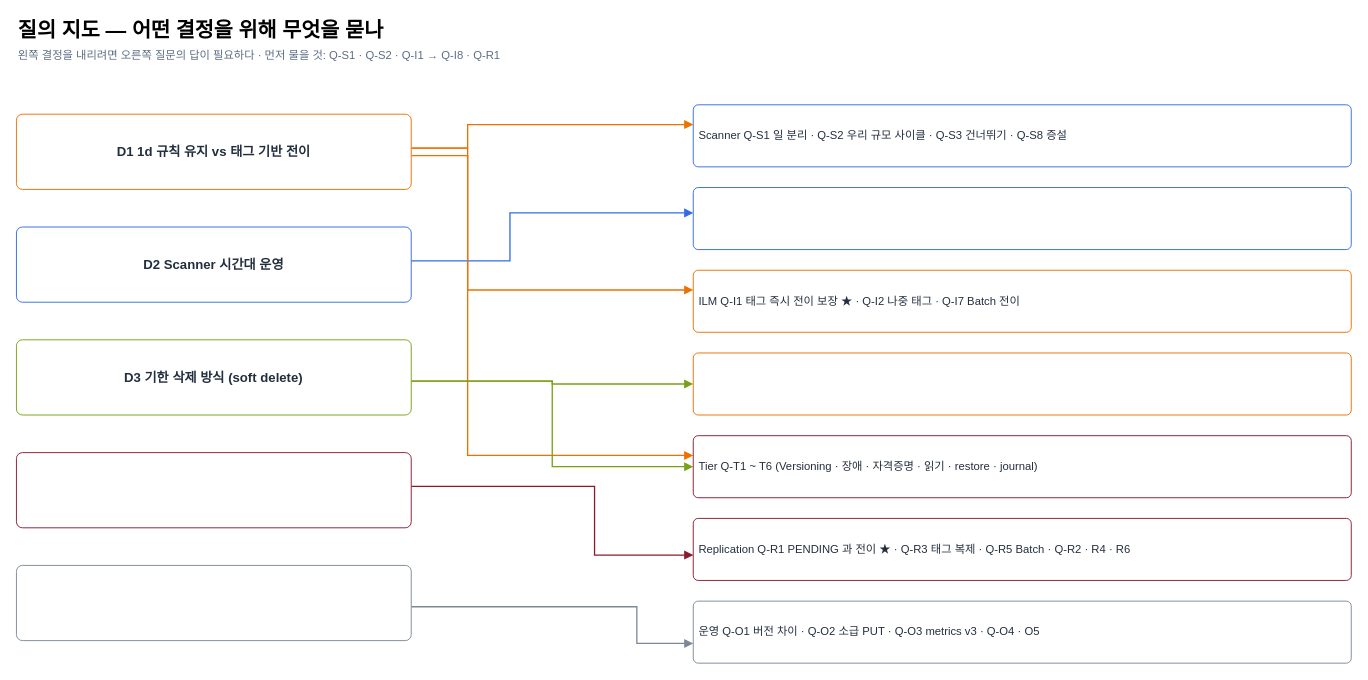
The diagram is 1368 pixels wide and 680 high, and some of its shapes have lost their labels. The centre of each missing label's shape, as x and y in pixels:
"D4 Replication 방식 (R-A / R-B)" goes at (213,490).
"D5 운영 버전 재시험 범위" goes at (213,602).
"ILM Q-I3 태그 규칙 비용 · Q-I8 전이 버전 만료 = 복구 불가 ★ · Q-I4 · I5 · I6" goes at (1021,383).
"Scanner Q-S4 speed 즉시 반영 · Q-S5 버킷 제외 · Q-S6 지표 · Q-S7 경보" goes at (1021,218).
